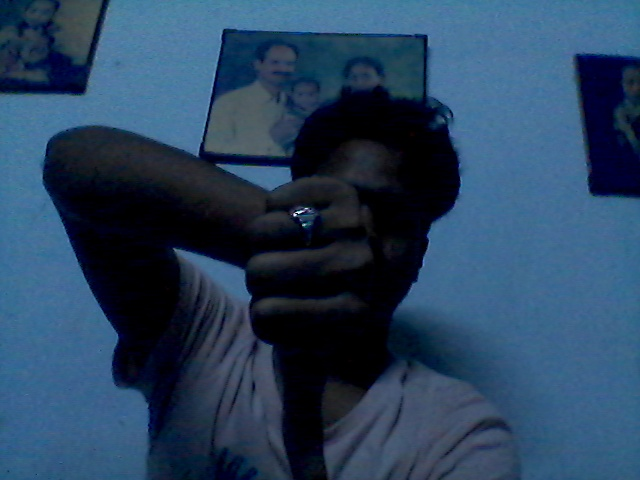Please: (220, 173, 383, 480)
